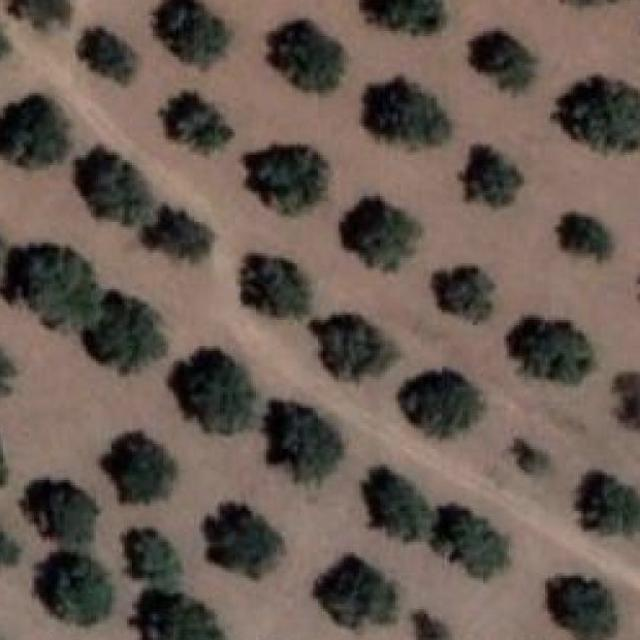Tree: (3, 238, 93, 332), (171, 340, 255, 432), (509, 308, 594, 388), (553, 74, 640, 151), (364, 77, 451, 150), (199, 501, 279, 577), (404, 366, 487, 439), (75, 145, 148, 226), (0, 91, 71, 174), (263, 397, 337, 475), (432, 506, 516, 574), (344, 194, 420, 269), (321, 555, 396, 630), (316, 313, 397, 382), (249, 141, 325, 214), (269, 21, 346, 93), (93, 294, 165, 371), (362, 464, 432, 542), (34, 552, 111, 622), (540, 571, 618, 640), (22, 475, 102, 541), (156, 0, 229, 68), (238, 256, 310, 321), (112, 429, 178, 499), (132, 590, 223, 640), (161, 93, 236, 153), (576, 469, 640, 536), (471, 31, 538, 93), (466, 146, 530, 206), (434, 260, 496, 321), (120, 524, 182, 584), (78, 29, 136, 87), (552, 210, 611, 264), (146, 212, 208, 263), (362, 0, 448, 34), (0, 0, 72, 33), (609, 372, 640, 428), (514, 433, 549, 474), (411, 609, 455, 640), (0, 516, 20, 566), (0, 345, 12, 404), (0, 425, 8, 492), (0, 20, 10, 68)
